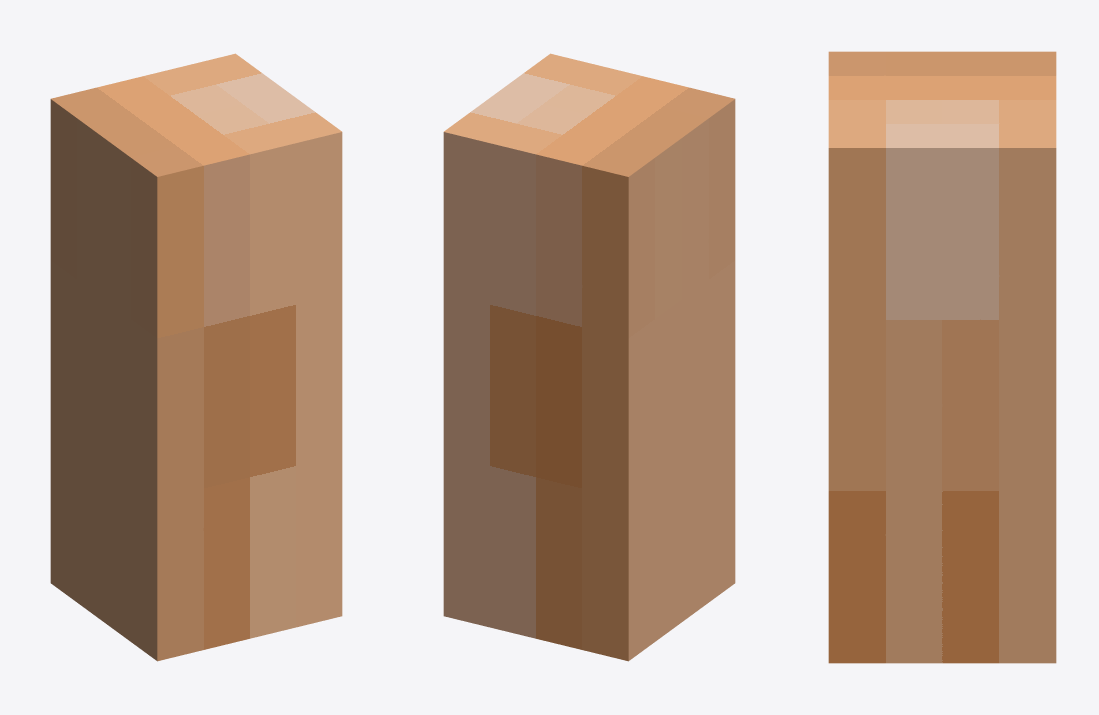
Rendered from Hand3.gltf.
The picture shows the model from 3 angles, left to right: view 1: azimuth 30°, elevation 25°; view 2: azimuth 150°, elevation 25°; view 3: azimuth 270°, elevation 25°; orthographic projection. The views are drawn at different scales.
Parts seen in each view (by area): view 1: Left Hand; view 2: Left Hand; view 3: Left Hand.
Part boxes in pixels (x1,y1,x2,y2): Left Hand: [50, 53, 342, 661]; Left Hand: [443, 53, 735, 661]; Left Hand: [828, 51, 1056, 663].
Size of the model in its own units: 0.1562 by 0.3438 by 0.1562.
Materials: 1 (1 with a texture image).
